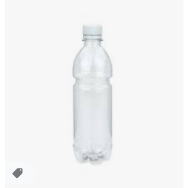Bottle: (75, 24, 113, 163)
